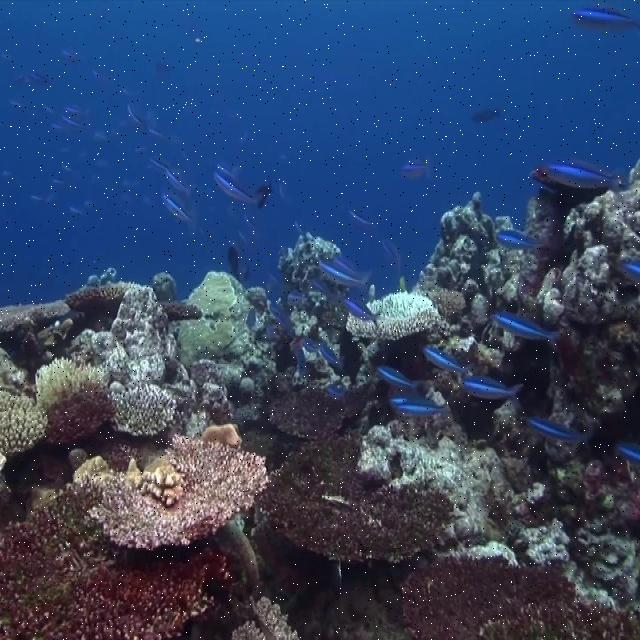fish: (492, 312, 559, 349), (463, 375, 524, 411), (546, 162, 618, 190), (214, 171, 263, 202), (422, 346, 472, 373), (528, 416, 576, 441), (376, 364, 425, 388), (160, 187, 188, 221), (497, 230, 538, 250), (399, 400, 447, 417), (343, 299, 376, 321)
reefs: (1, 490, 233, 639), (256, 431, 488, 563), (70, 433, 270, 551), (400, 553, 639, 639), (70, 284, 176, 388), (261, 365, 368, 437), (35, 357, 116, 442), (346, 289, 441, 341), (108, 381, 176, 437), (11, 394, 46, 452)
